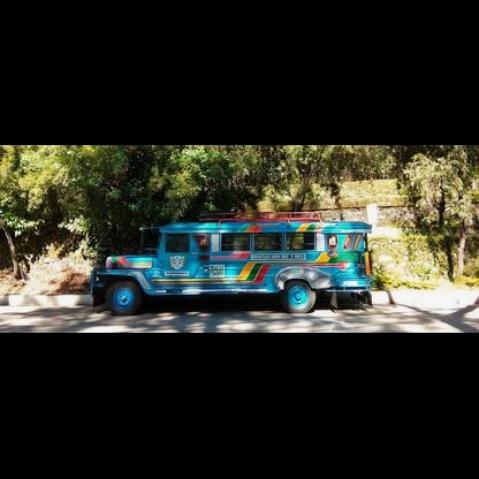jeepney: (74, 200, 399, 332)
